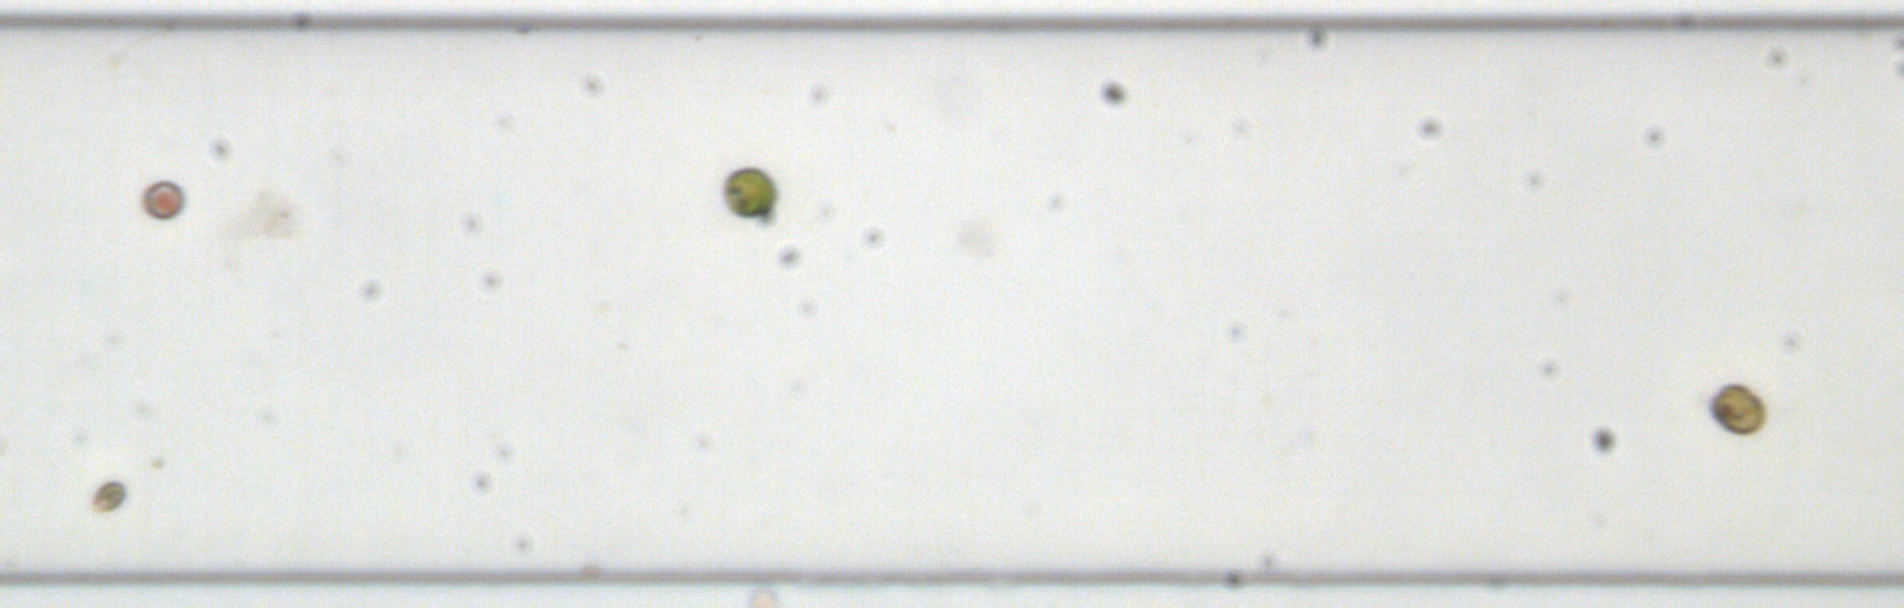Dunaliella salina: (89, 475, 129, 519)
Effrenium: (1707, 380, 1769, 441)
Platymonas: (721, 163, 777, 221)
Porphyridium: (138, 177, 187, 221)
